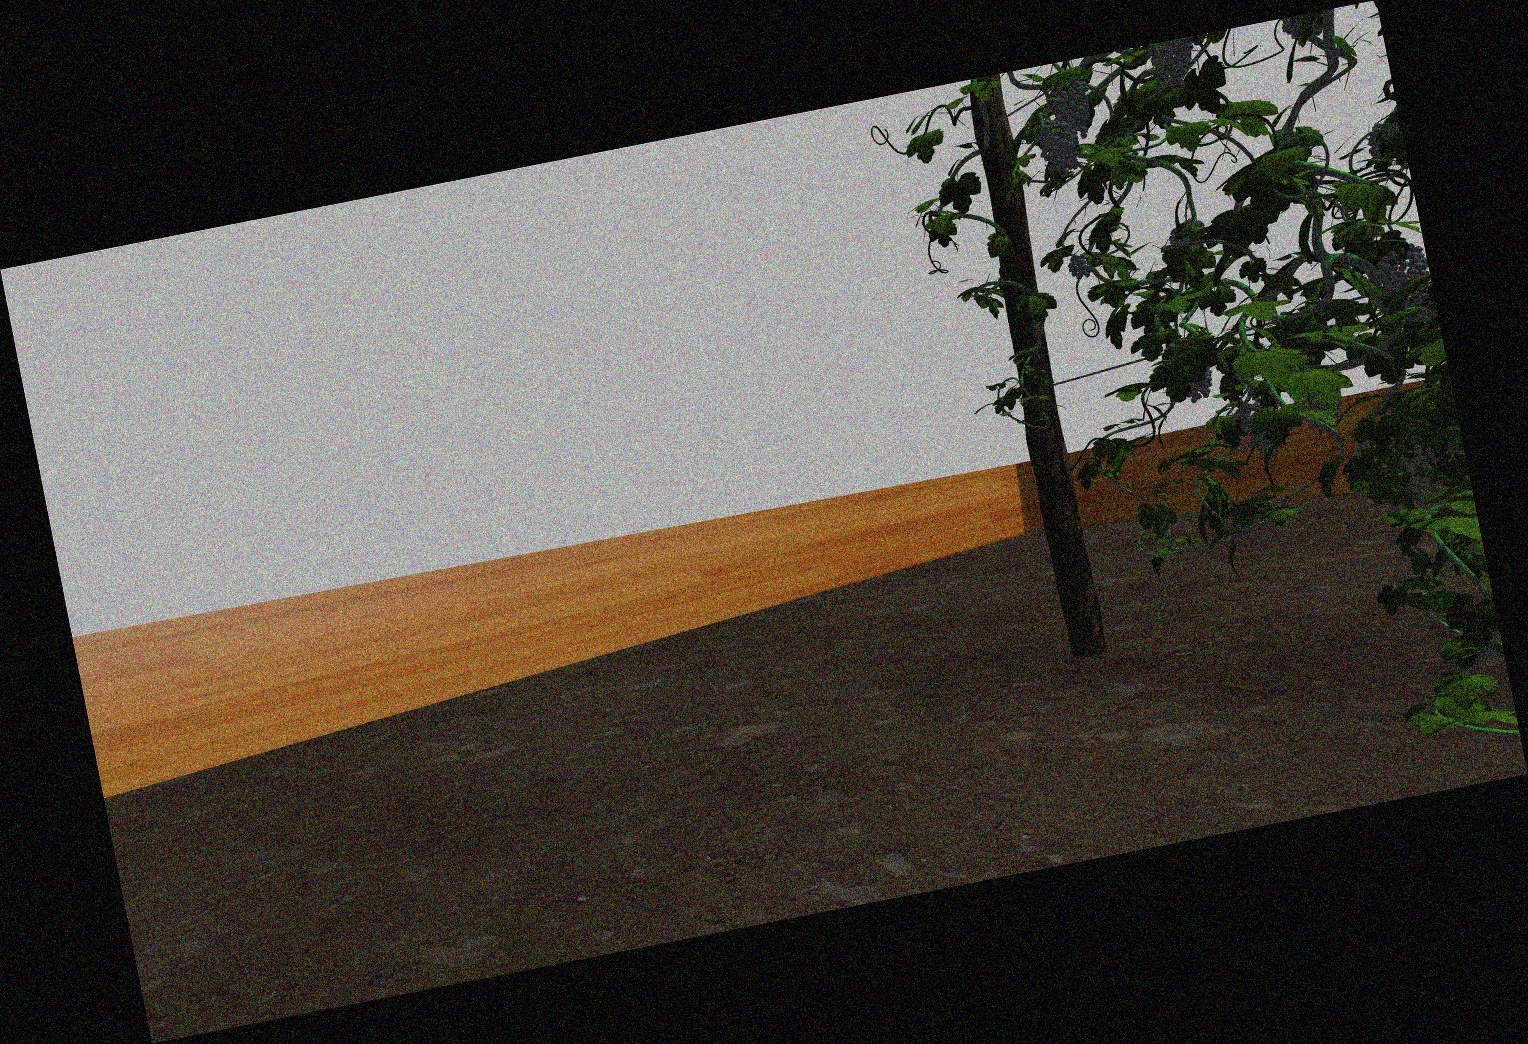grape: (1379, 245, 1427, 309), (1053, 81, 1093, 139), (1151, 45, 1198, 86), (1042, 122, 1076, 173), (1065, 252, 1097, 280)
